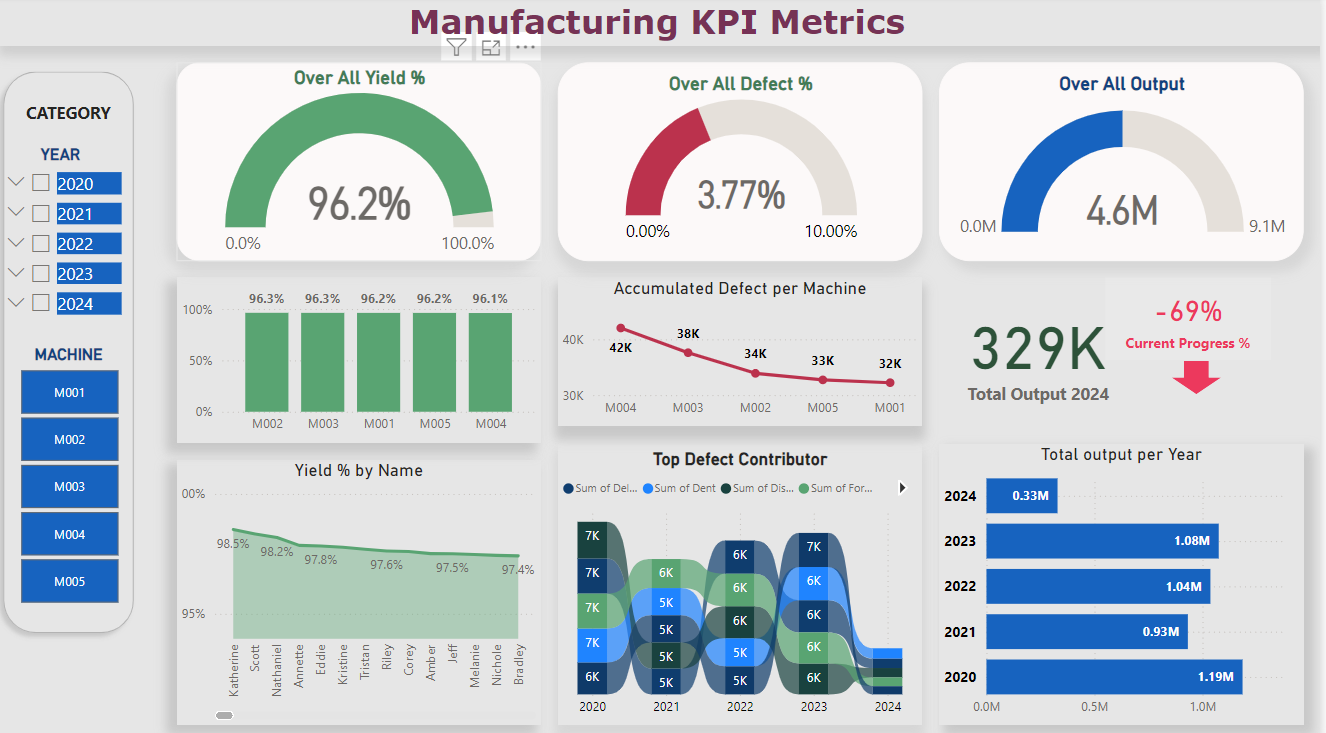

The dashboard page shown, as its layout file describes it:
{"tool":"powerbi","page":{"name":"Page 1","canvas":[1280,720],"ordinal":0},"visuals":[{"type":"gauge","title":"Over All Yield %","fields":{"Y":["fake_data.Yield %"]},"box":[176,64,352,192],"z":0},{"type":"gauge","title":"Over All Defect %","fields":{"Y":["fake_data.Total Defect Rate"]},"box":[544,64,352,192],"z":1000},{"type":"gauge","title":"Over All Output","fields":{"Y":["fake_data.Total Output"]},"box":[912,64,352,192],"z":2000},{"type":"stackedAreaChart","fields":{"Category":["fake_data.Name"],"Y":["fake_data.Yield %"]},"box":[176,448,352,256],"z":3000},{"type":"columnChart","fields":{"Category":["fake_data.Machine Number"],"Y":["fake_data.Yield %"]},"box":[176,272,352,160],"z":4000},{"type":"ribbonChart","title":"Top Defect Contributor","fields":{"Category":["fake_data.Date.Variation.Date Hierarchy.Year"],"Y":["fake_data.Delamination","fake_data.Dent","fake_data.Discoloration","fake_data.Foreign Material","fake_data.Scratch"]},"box":[544,432,352,272],"z":5000},{"type":"lineChart","title":"Accumulated Defect per Machine","fields":{"Y":["fake_data.Total Defects per Lot"],"Category":["fake_data.Machine Number"]},"box":[544,272,352,144],"z":6000},{"type":"textbox","box":[0,0,1280,48],"z":7000},{"type":"clusteredBarChart","title":"Total output per Year","fields":{"Category":["fake_data.Date.Variation.Date Hierarchy.Year"],"Y":["fake_data.Total Output"]},"box":[912,432,352,272],"z":8000},{"type":"shape","box":[0,64,144,560],"z":9000},{"type":"slicer","title":"MACHINE","fields":{"Values":["fake_data.Machine Number"]},"box":[0,336,144,256],"z":10000},{"type":"slicer","title":"YEAR","fields":{"Values":["fake_data.Date.Variation.Date Hierarchy.Year","fake_data.Date.Variation.Date Hierarchy.Quarter","fake_data.Date.Variation.Date Hierarchy.Month","fake_data.Date.Variation.Date Hierarchy.Day"]},"box":[0,144,128,176],"z":11000},{"type":"textbox","box":[16,96,112,32],"z":12000},{"type":"card","fields":{"Values":["fake_data.Total Output 2024"]},"box":[912,272,192,144],"z":13000},{"type":"card","fields":{"Values":["fake_data.Current Progress %"]},"box":[1072,272,160,80],"z":14000},{"type":"shape","box":[1136,352,48,32],"z":15000}]}

Visuals, with their boxes in screenshot pixels (x1, y1, x2, y2), scaled from the page's 1280x720 canvas onto the 1326x733 screenshot:
"Over All Yield %" gauge: region(182, 65, 547, 261)
"Over All Defect %" gauge: region(564, 65, 928, 261)
"Over All Output" gauge: region(945, 65, 1309, 261)
stackedAreaChart - fake_data.Name x fake_data.Yield %: region(182, 456, 547, 717)
columnChart - fake_data.Machine Number x fake_data.Yield %: region(182, 277, 547, 440)
"Top Defect Contributor" ribbonChart: region(564, 440, 928, 717)
"Accumulated Defect per Machine" lineChart: region(564, 277, 928, 424)
textbox: region(0, 0, 1325, 49)
"Total output per Year" clusteredBarChart: region(945, 440, 1309, 717)
shape: region(0, 65, 149, 635)
"MACHINE" slicer: region(0, 342, 149, 603)
"YEAR" slicer: region(0, 147, 133, 326)
textbox: region(17, 98, 133, 130)
card - fake_data.Total Output 2024: region(945, 277, 1144, 424)
card - fake_data.Current Progress %: region(1111, 277, 1276, 358)
shape: region(1177, 358, 1227, 391)
